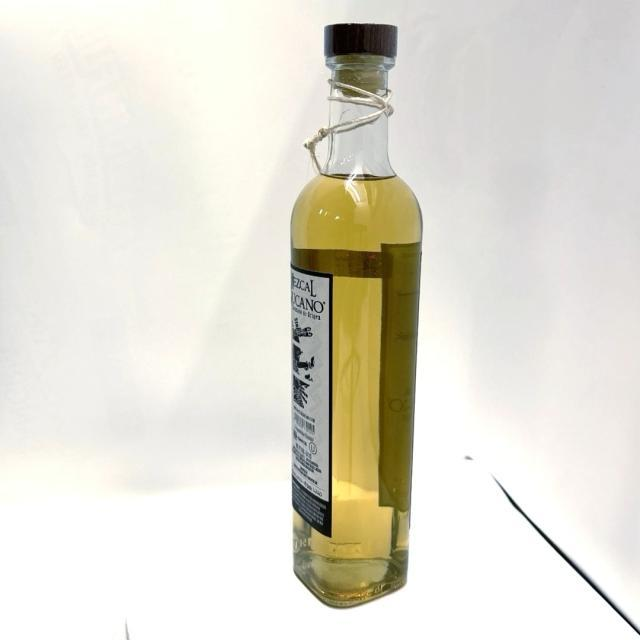MEZCAL-NUCANO-REPOSADO-750ml-80proof: (289, 24, 423, 612)
